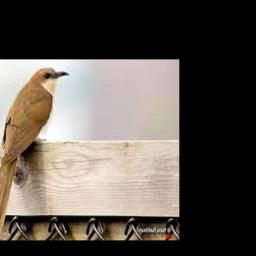Cuckoo: (0, 68, 70, 237)
